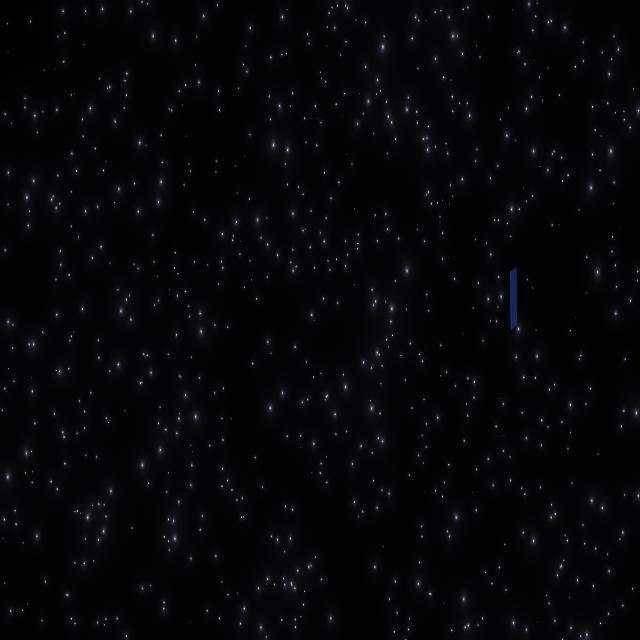large_debris: (506, 260, 521, 335)
